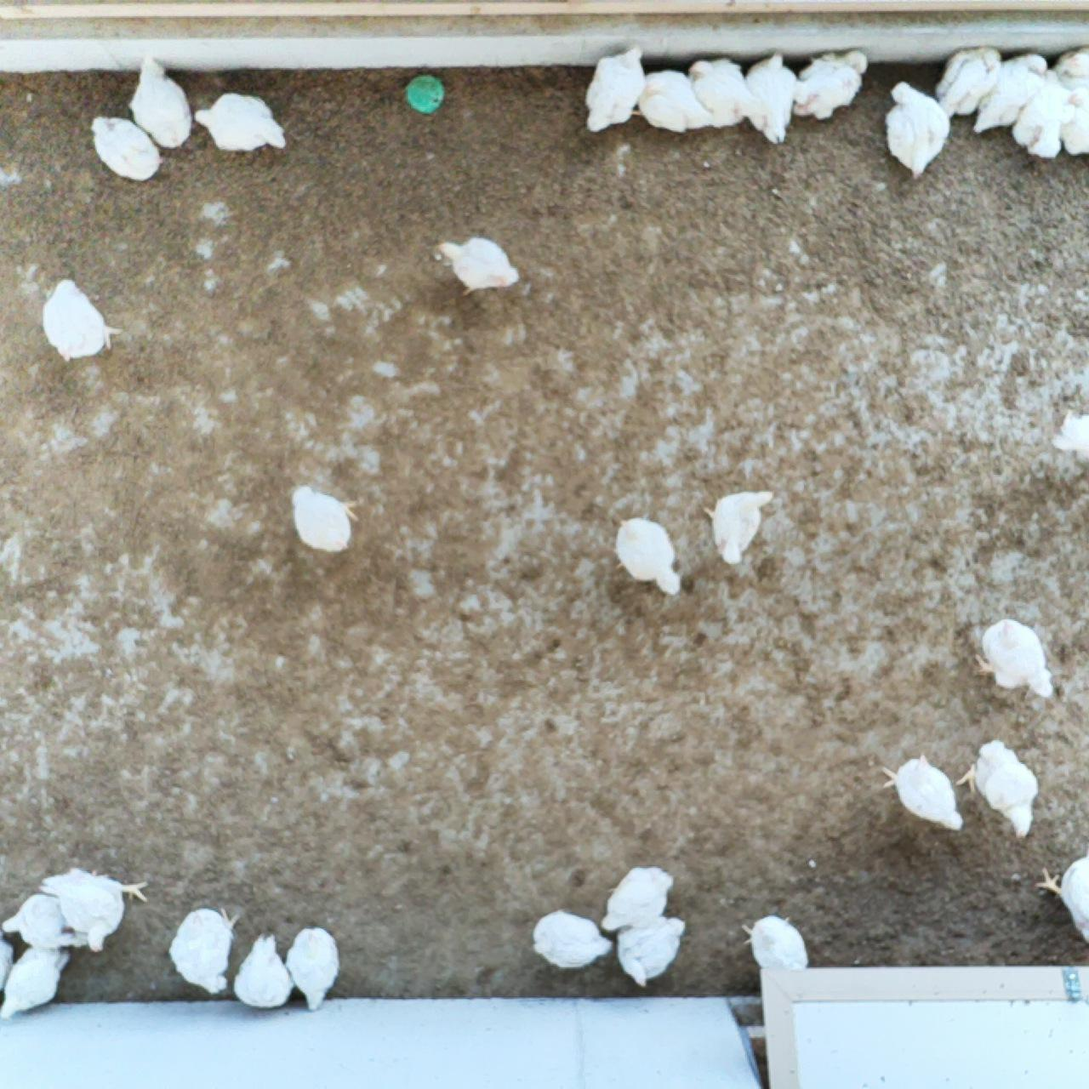chicken: (34, 866, 148, 952), (957, 736, 1042, 846), (968, 615, 1061, 701), (41, 273, 121, 366), (878, 752, 966, 834), (166, 906, 246, 996), (0, 887, 105, 953), (884, 79, 953, 177), (0, 932, 76, 1020), (972, 51, 1047, 139), (701, 485, 778, 569), (190, 91, 287, 156), (613, 511, 685, 598), (128, 58, 196, 149), (784, 48, 869, 120), (614, 911, 690, 988), (740, 48, 800, 145), (741, 911, 815, 989), (1032, 846, 1089, 947), (86, 111, 167, 182), (433, 235, 522, 299), (581, 43, 644, 132), (635, 65, 714, 135), (283, 921, 342, 1013), (599, 866, 674, 938), (232, 929, 297, 1011), (288, 481, 362, 553), (529, 911, 619, 970), (1011, 71, 1068, 159), (937, 42, 999, 120), (688, 55, 755, 127), (1051, 405, 1089, 476), (1054, 84, 1089, 160), (1051, 45, 1089, 104), (0, 924, 18, 1008)
